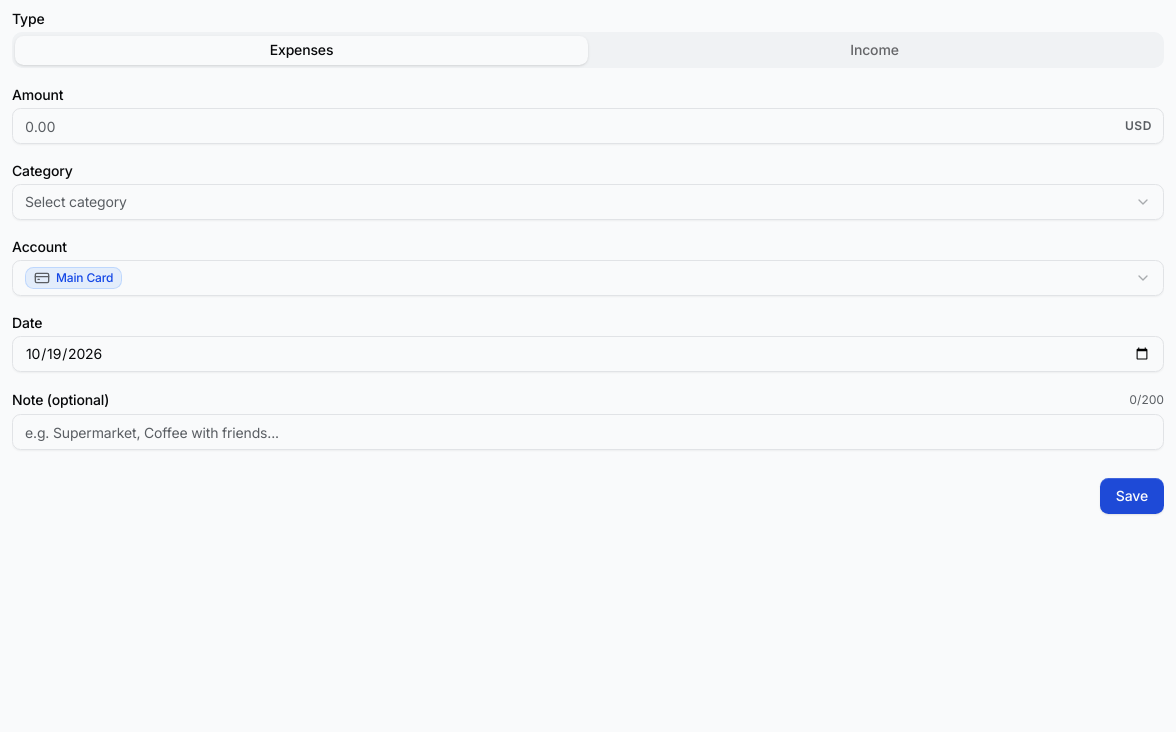
Scenario: TransactionForm › shows validation errors when amount or category are missing on submit
The width and height of the screenshot is (1176, 732).
Click the button with test id "transaction-submit-button": (1132, 496) [1100, 478, 1164, 514]
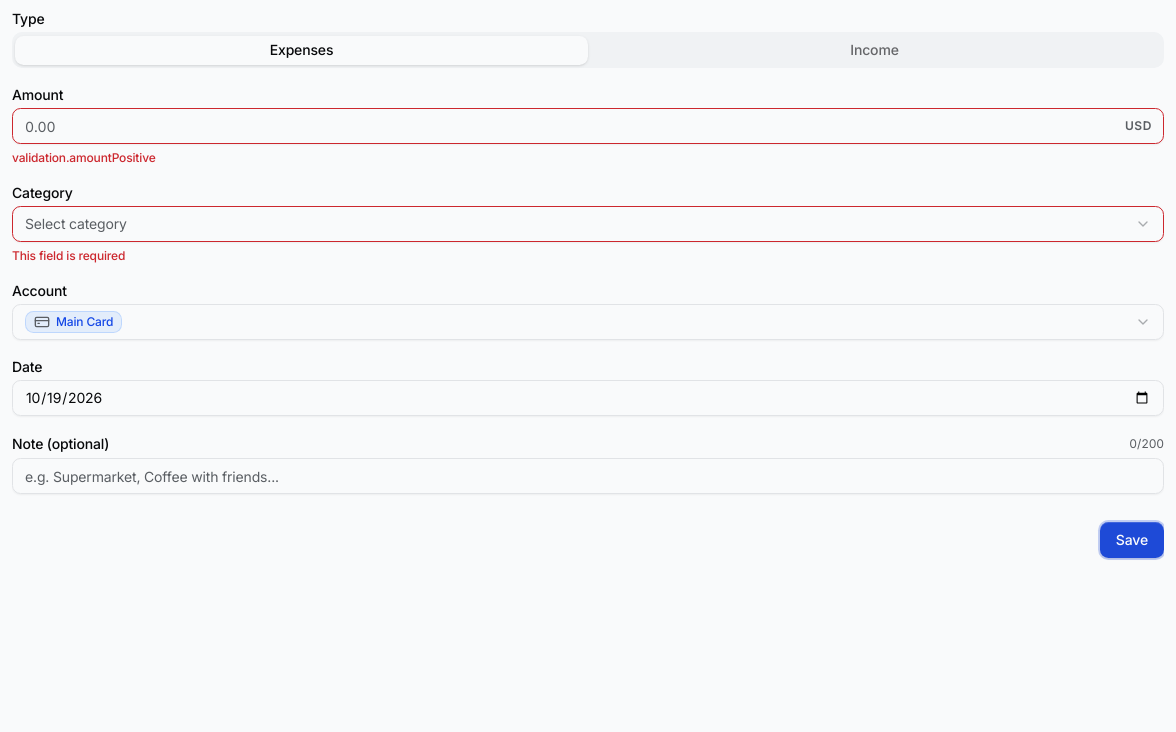
Expected: the message "validation.amountPositive" is shown, [12, 150, 156, 165]
Expected: the message "This field is required" is shown, [12, 248, 125, 263]
